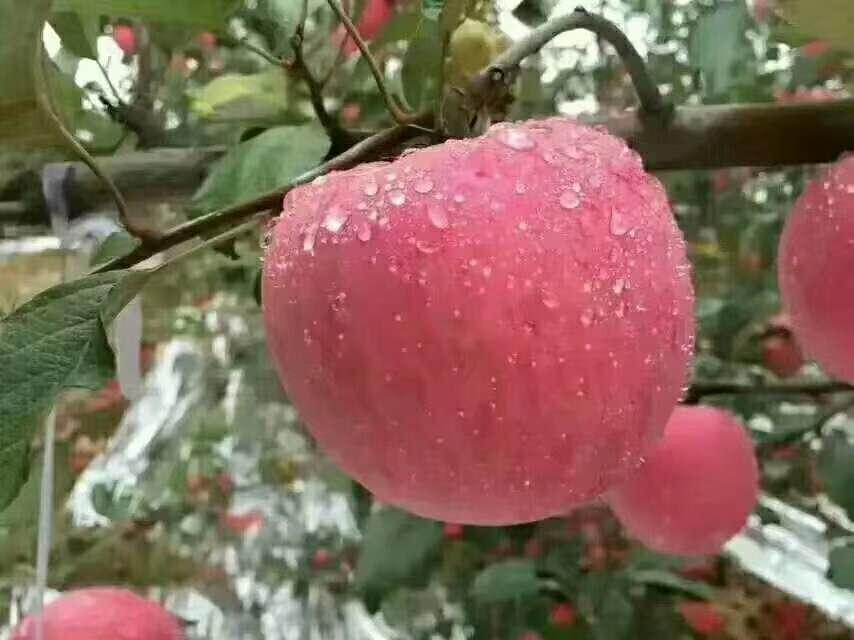apple: (259, 116, 706, 524), (773, 153, 853, 384), (7, 586, 184, 640)
